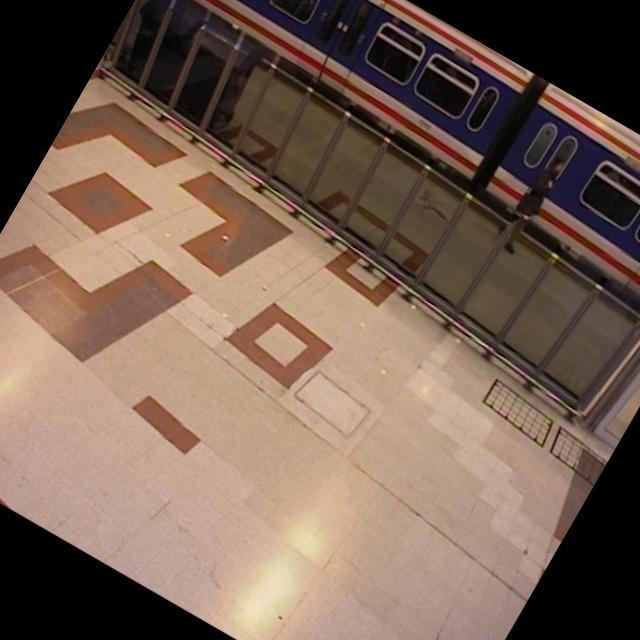person: (484, 140, 580, 266)
